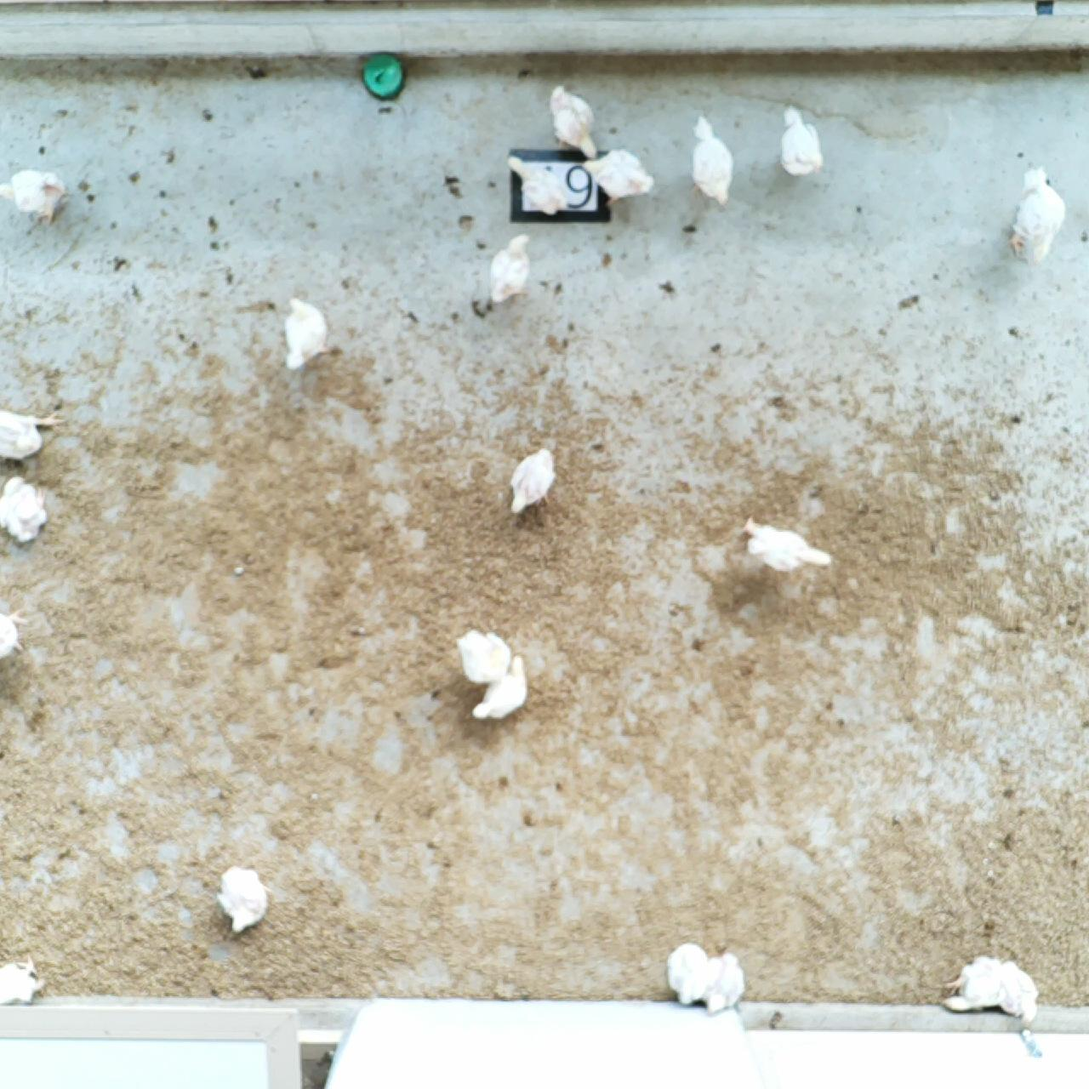chicken: (1012, 169, 1066, 264), (740, 519, 832, 571), (470, 657, 526, 726), (506, 157, 566, 218), (584, 151, 653, 203), (693, 115, 732, 207), (549, 88, 601, 156), (3, 171, 65, 223), (220, 865, 265, 935), (1, 477, 48, 544), (510, 449, 556, 516), (780, 108, 823, 178), (698, 949, 743, 1015), (489, 236, 532, 304), (459, 629, 512, 681), (1, 412, 58, 458), (667, 944, 707, 1008), (951, 960, 1000, 1012), (287, 300, 325, 367), (995, 959, 1036, 1018), (1, 955, 44, 1006), (1, 611, 25, 659)
